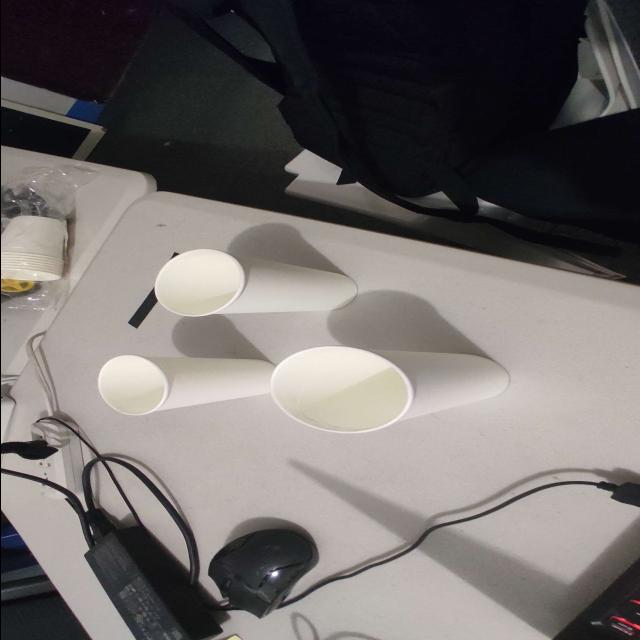styrofoam: (269, 346, 508, 432), (153, 249, 355, 316), (97, 355, 275, 415)
